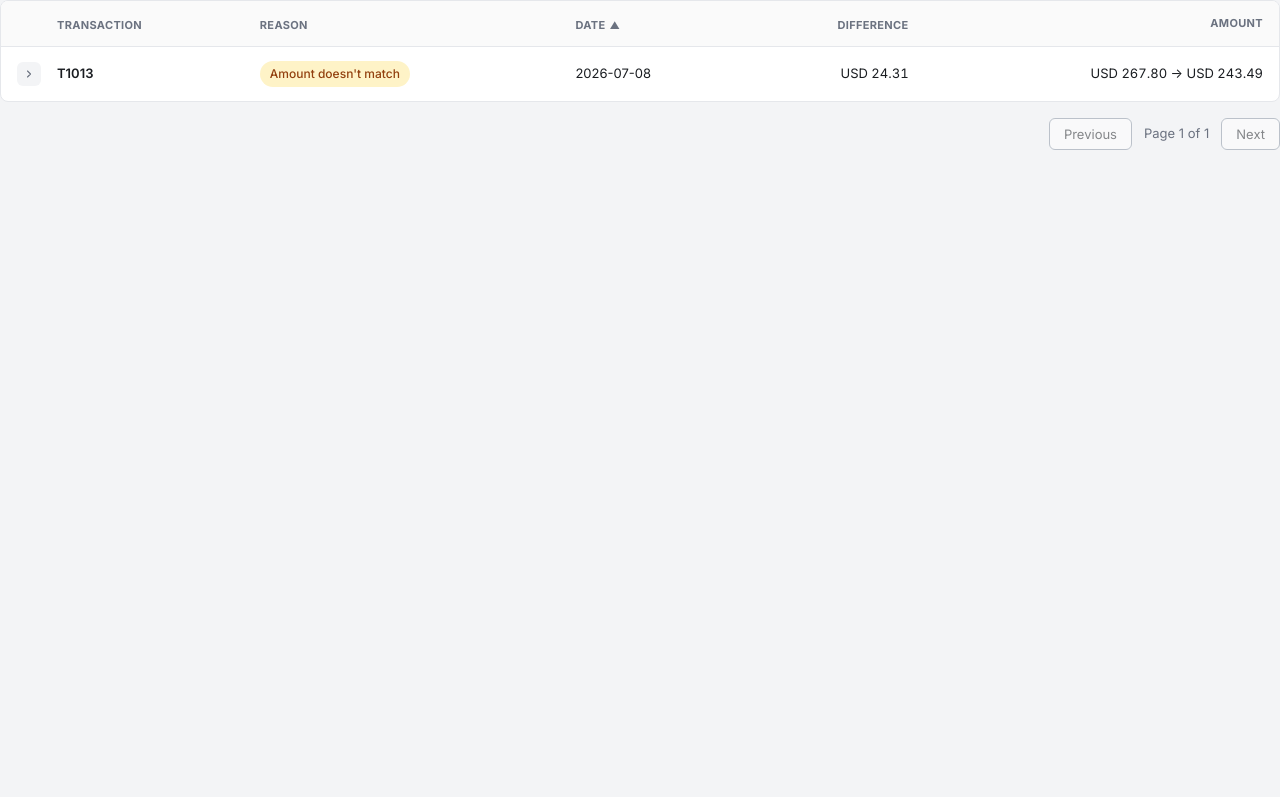
Test: ExceptionsTable › supports independently expanding and collapsing a row via the same toggle
The image size is (1280, 797).
Click the button named "expand details for transaction t1013".
click(29, 74)  # box [17, 62, 41, 86]
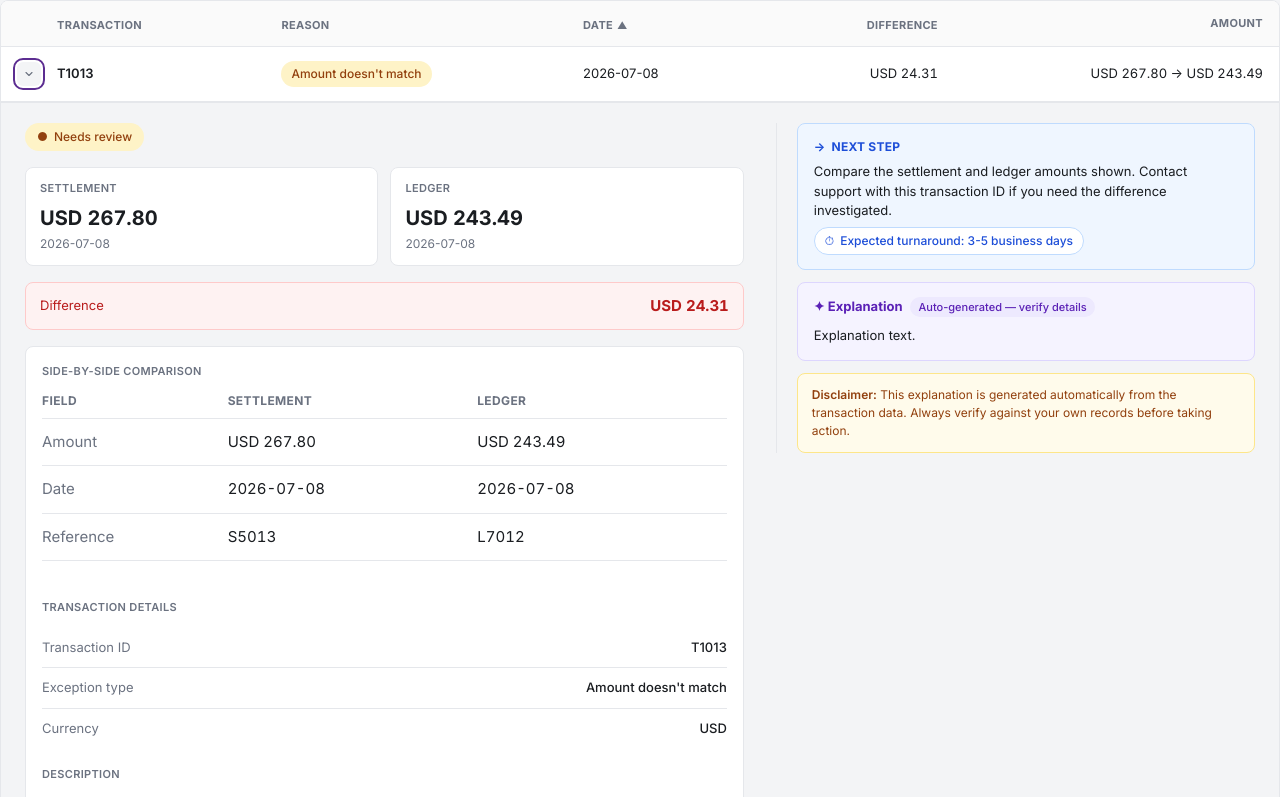
Now the heading "Side-by-side comparison" is shown, box [42, 364, 202, 378]
Click the button named "collapse details for transaction t1013".
click(29, 74)  # box [17, 62, 41, 86]
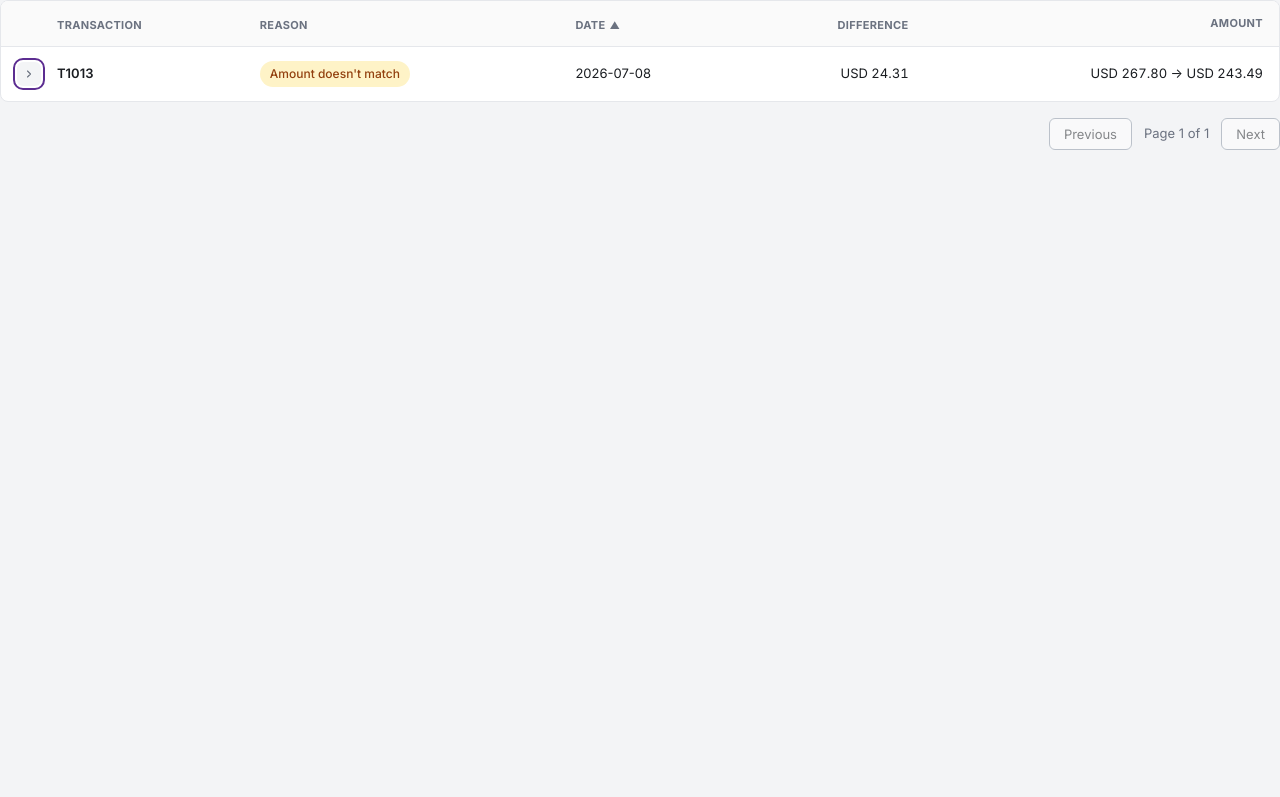
Now the heading "Side-by-side comparison" is gone
